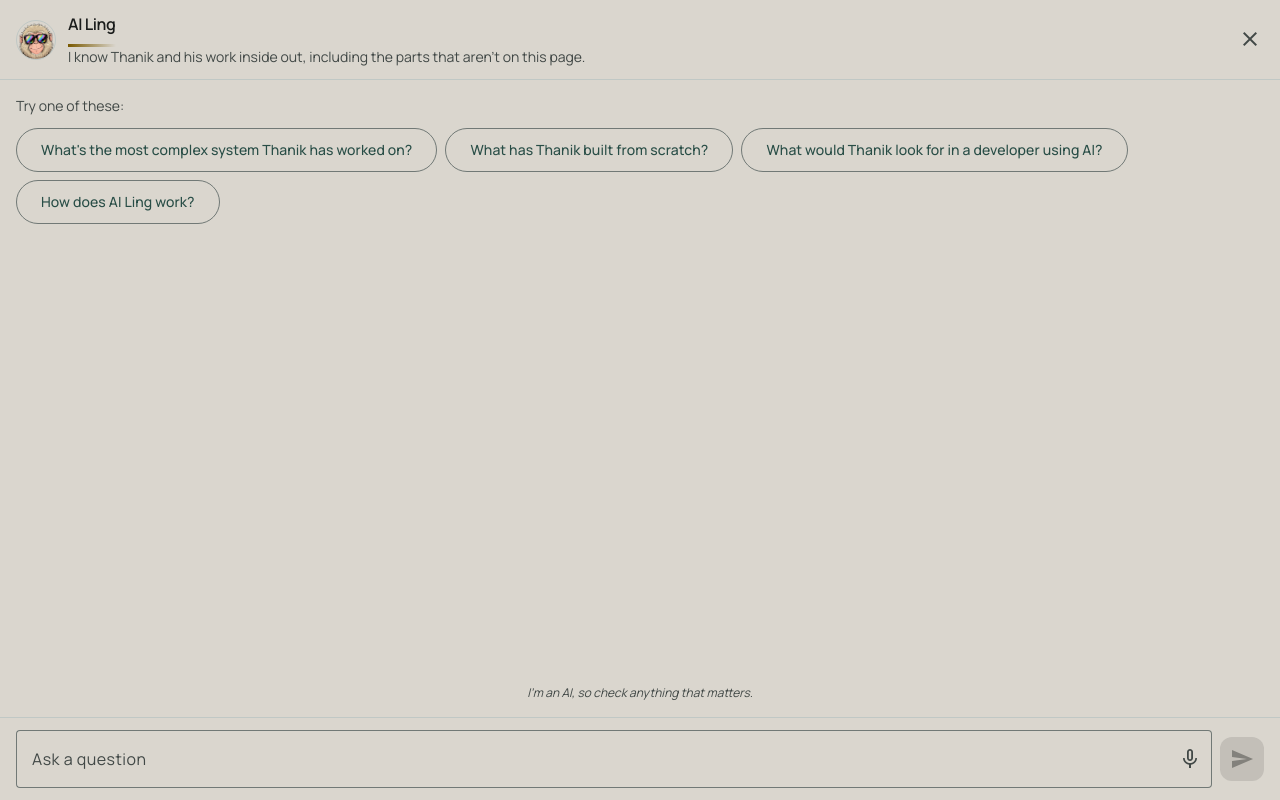
Test: ChatPanelComponent › voice input › when speech recognition is supported › clears a previous error message once listening starts again
Click the button named "Start voice input" at (1190, 759), box [1168,737,1212,781]
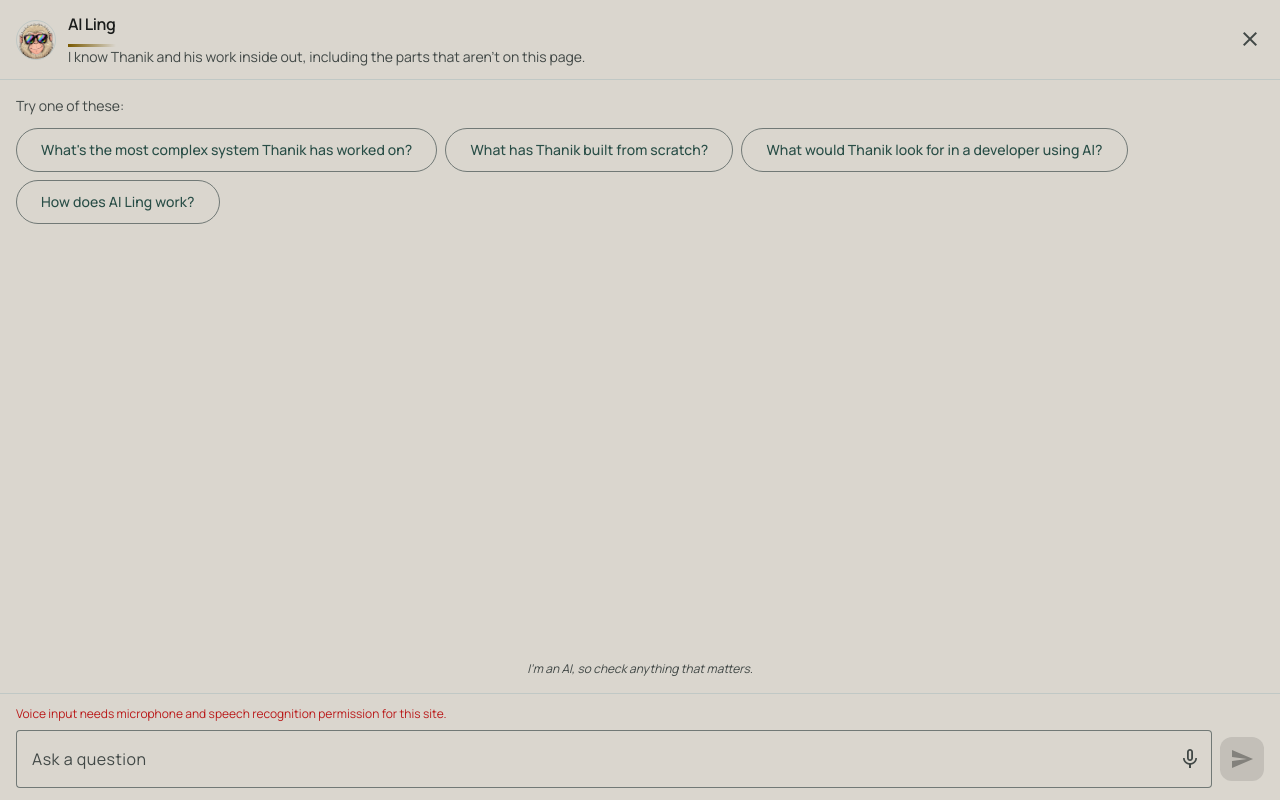
Click the button named "Start voice input" at (1190, 759), box [1168,737,1212,781]
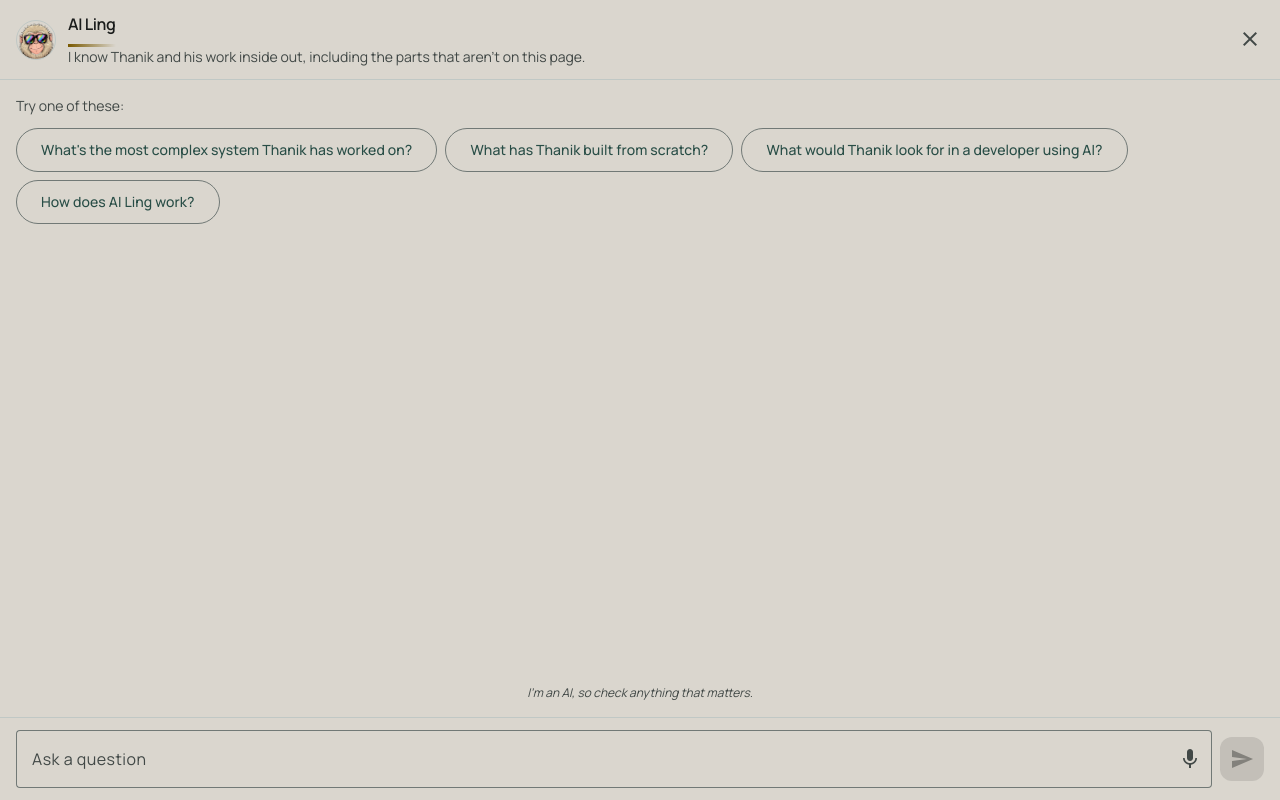
Now the message with class "chat-mic-error" is gone
